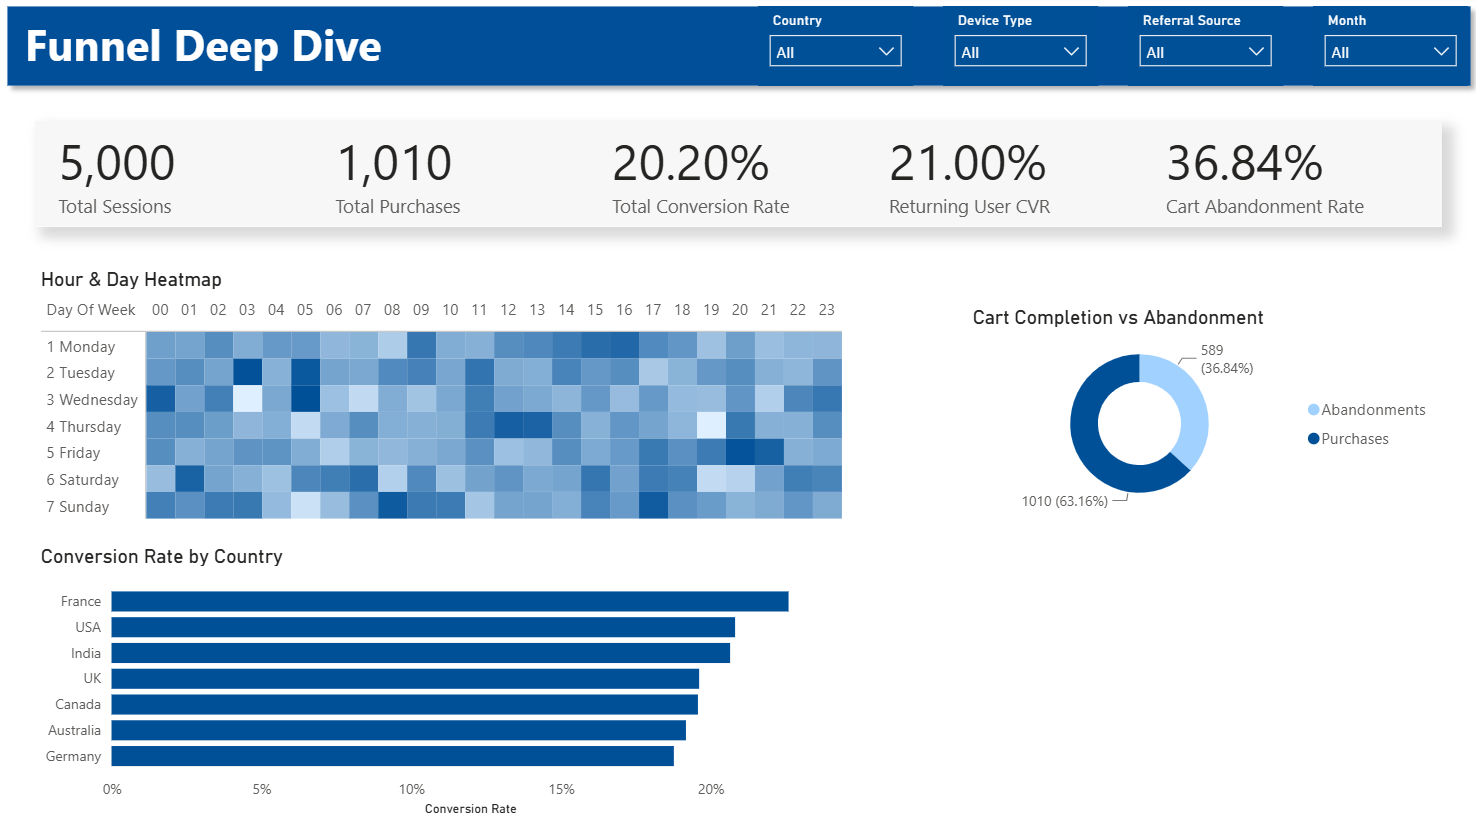

Layout of this report page (visuals, bound fields, positions):
{"tool":"powerbi","page":{"name":"Funnel Deepdive","canvas":[1280,720],"ordinal":1},"visuals":[{"type":"shape","title":"Funnel Analysis","box":[0,0,1280,86.3],"z":0},{"type":"multiRowCard","fields":{"Values":["Measures_.Total Sessions","Measures_.Total Purchases","Measures_.Conversion Rate","Session_Level.Returning User CVR","Measures_.Cart Abandonment Rate"]},"box":[32.8,107.8,1214.4,91.4],"z":1000},{"type":"pivotTable","title":"Hour & Day Heatmap","fields":{"Values":["Measures_.Conversion Rate"],"Columns":["customer_journey.Hour(Calculated)"],"Rows":["customer_journey.DayOfWeek_Sorted"]},"box":[32.8,233.7,709.9,230.3],"z":2000},{"type":"slicer","fields":{"Values":["customer_journey.Country"]},"box":[656.3,8.6,133.7,69],"z":3000},{"type":"slicer","fields":{"Values":["customer_journey.DeviceType"]},"box":[815.8,8.6,133.7,69],"z":4000},{"type":"slicer","fields":{"Values":["customer_journey.ReferralSource"]},"box":[975.4,8.6,133.7,69],"z":5000},{"type":"slicer","fields":{"Values":["customer_journey.Date.Variation.Date Hierarchy.Month"]},"box":[1135,8.6,133.7,69],"z":6000},{"type":"donutChart","title":"Cart Completion vs Abandonment","fields":{"Y":["Measures_.Cart Abandonments","Measures_.Sessions_Purchase"]},"box":[836.7,266.5,410.6,185.4],"z":7000},{"type":"barChart","fields":{"Category":["customer_journey.Country"],"Y":["Measures_.Conversion Rate"]},"box":[32.8,472.7,703,238.9],"z":8000}]}

Visuals, with their boxes in screenshot pixels (x1, y1, x2, y2), scaled from the page's 1280x720 canvas onto the 1476x827 screenshot:
"Funnel Analysis" shape: [0,0,1475,99]
multiRowCard - Measures_.Total Sessions x Measures_.Total Purchases: [38,124,1438,229]
"Hour & Day Heatmap" pivotTable: [38,268,856,533]
slicer - customer_journey.Country: [757,10,911,89]
slicer - customer_journey.DeviceType: [941,10,1095,89]
slicer - customer_journey.ReferralSource: [1125,10,1279,89]
slicer - customer_journey.Date.Variation.Date Hierarchy.Month: [1309,10,1463,89]
"Cart Completion vs Abandonment" donutChart: [965,306,1438,519]
barChart - customer_journey.Country x Measures_.Conversion Rate: [38,543,848,817]
